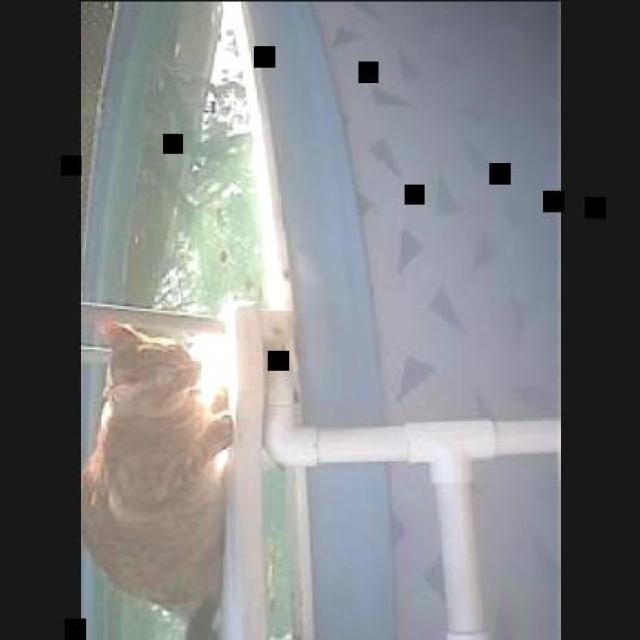unauthorized: (78, 314, 234, 638)
